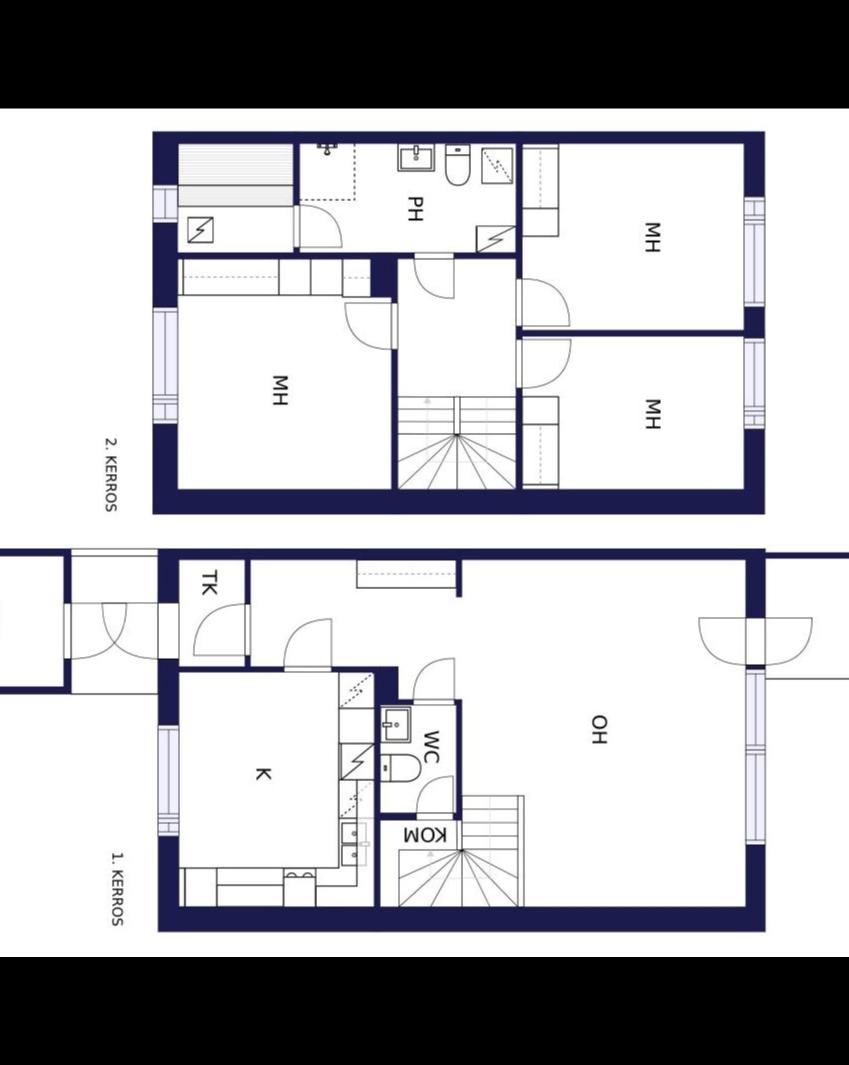bathroom: (300, 143, 516, 252), (384, 703, 458, 816)
door: (102, 598, 180, 662), (700, 610, 768, 674), (744, 614, 818, 669), (62, 598, 128, 659), (194, 602, 256, 663), (512, 334, 572, 393), (511, 276, 570, 331), (278, 617, 337, 672), (346, 296, 404, 350), (289, 202, 347, 254), (409, 246, 459, 302), (412, 652, 456, 714), (416, 771, 454, 824)
perimeter: (148, 126, 768, 516), (153, 546, 766, 934), (0, 547, 74, 697)
stairs: (396, 394, 514, 483), (460, 794, 524, 906), (403, 848, 524, 904)
window: (735, 187, 772, 322), (148, 296, 184, 428), (152, 715, 186, 848), (738, 326, 769, 444), (740, 747, 770, 854), (742, 665, 772, 754), (148, 180, 182, 229)
